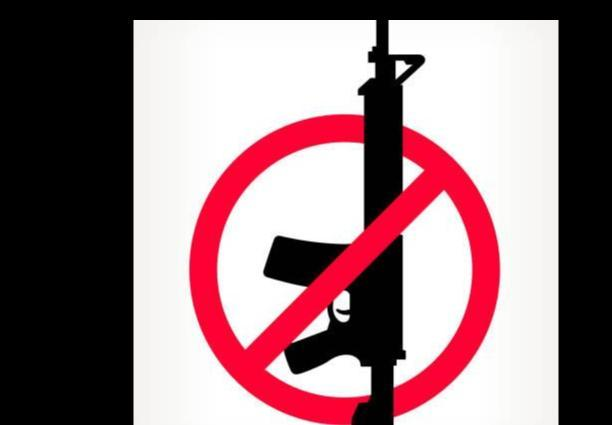larga: (261, 21, 426, 425)
